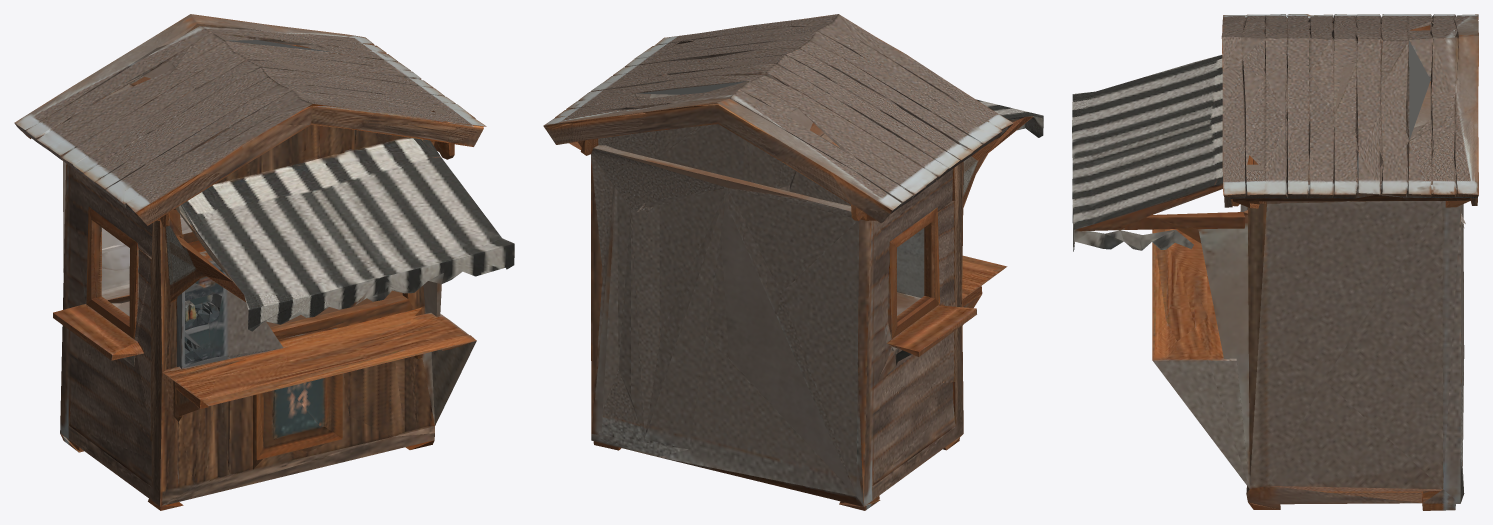
Rendered from snack.glb.
The picture shows the model from 3 angles, left to right: view 1: azimuth 30°, elevation 25°; view 2: azimuth 150°, elevation 25°; view 3: azimuth 270°, elevation 25°; orthographic projection. The views are drawn at different scales.
Size of the model in its own units: 1.82 by 1.9 by 1.73.
Materials: 1 (1 with a texture image).
